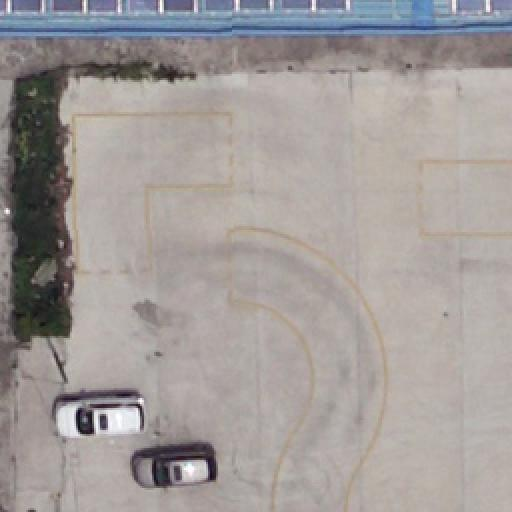solar-panel: (126, 0, 198, 12), (50, 0, 118, 12), (449, 0, 511, 12), (280, 0, 352, 8), (202, 0, 274, 8), (0, 0, 44, 12)
